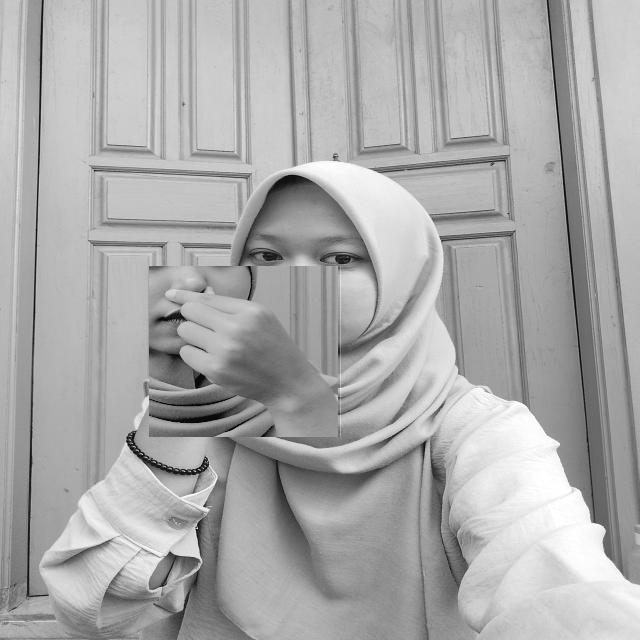bau: (150, 266, 342, 437)
